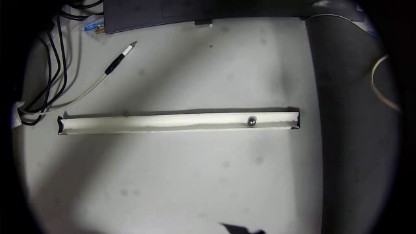gangzhu: (245, 114, 257, 126)
